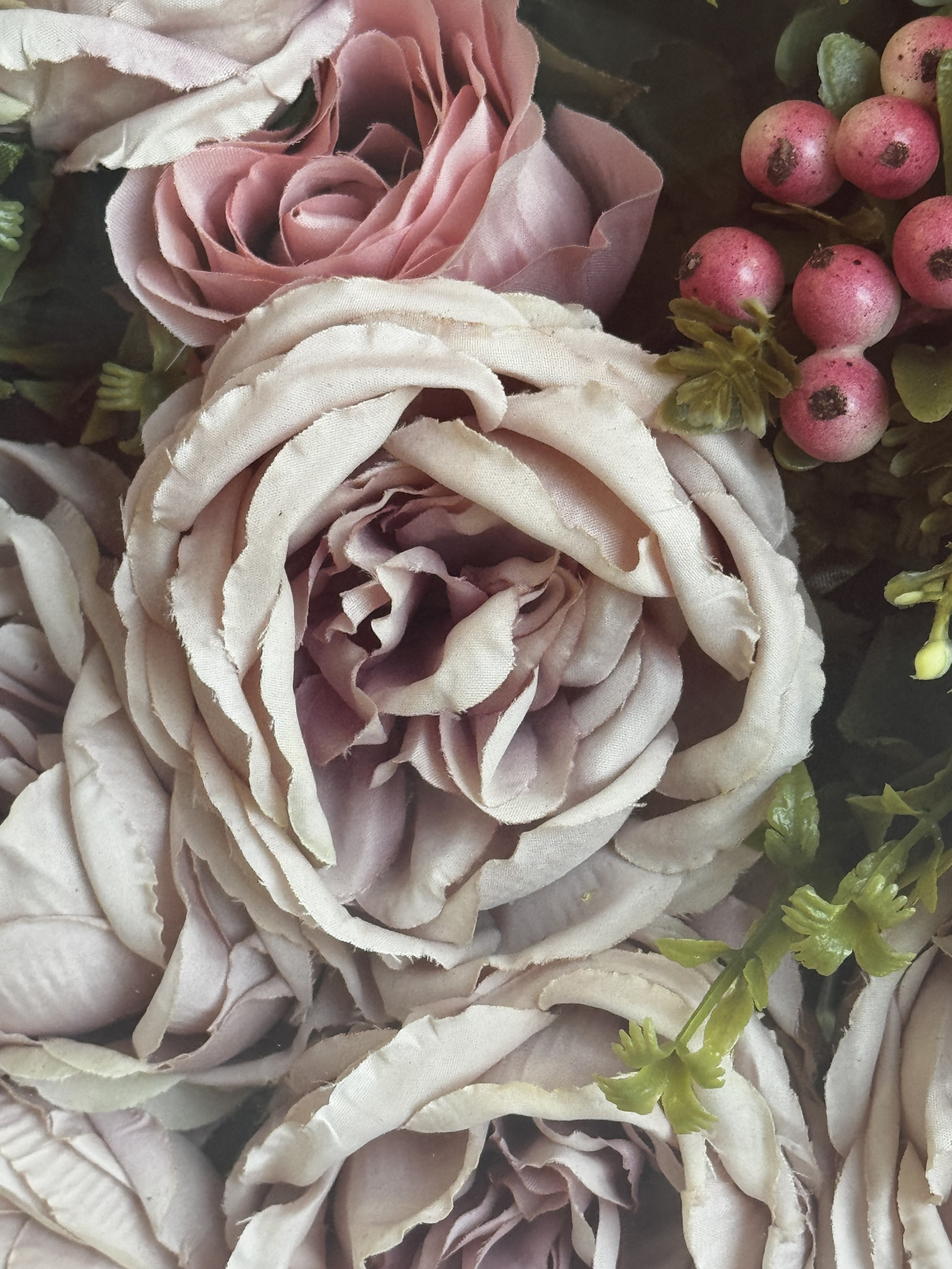rose: (64, 0, 684, 368)
